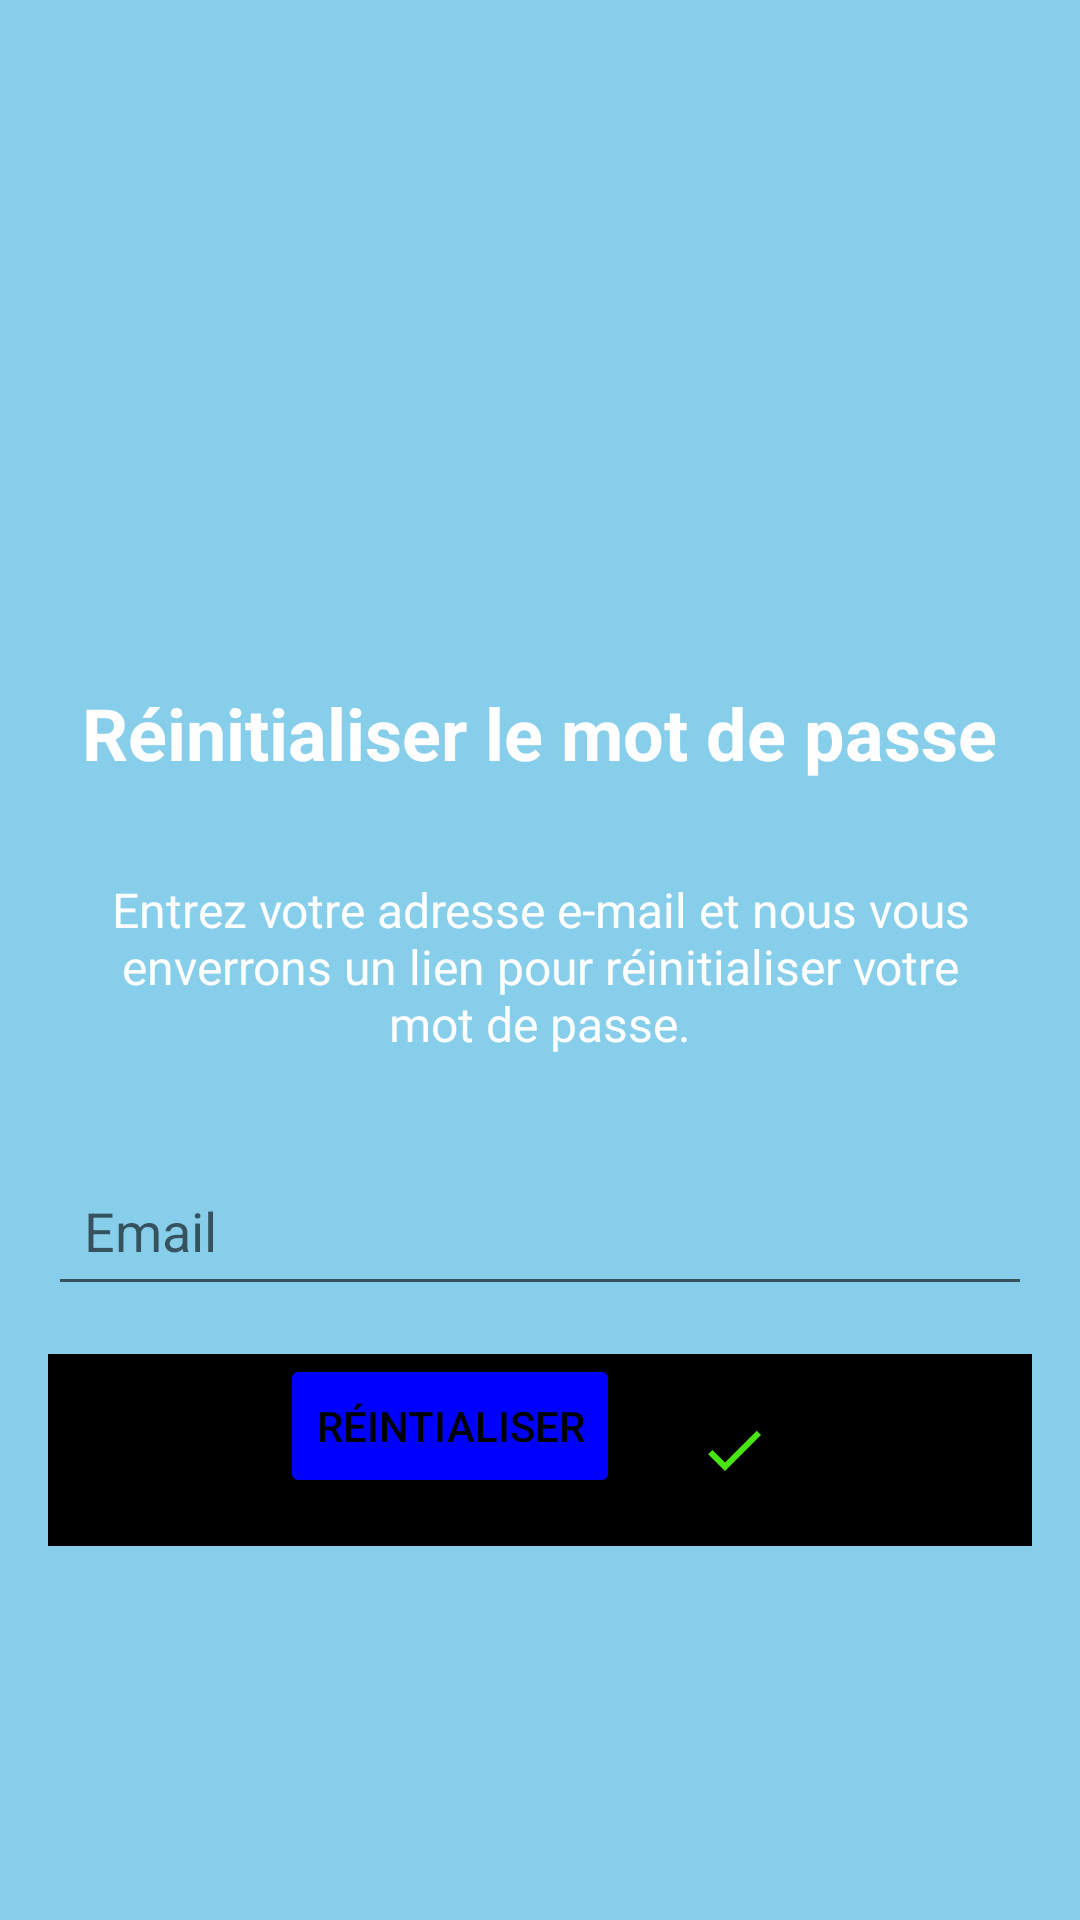

Named icons in this screenshot (1080×1920) and their centers, point (x, y):
done: point (734, 1451)
